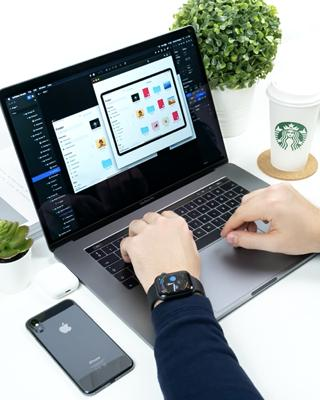Mobile Phone: (24, 298, 134, 396)
